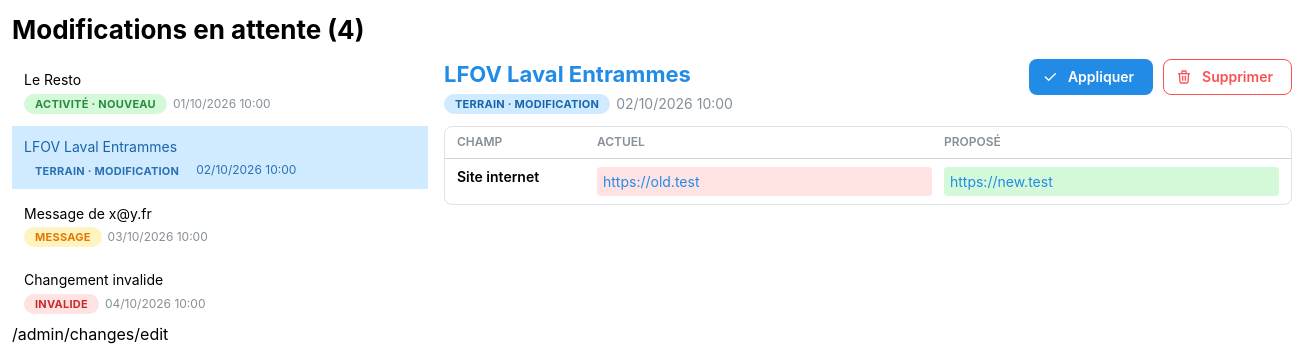
Test: AdminChanges › keeps the change and shows the error when applying fails
Step 1. Click the button "Appliquer" → (1091, 77), box x1=1029 y1=59 x2=1153 y2=95
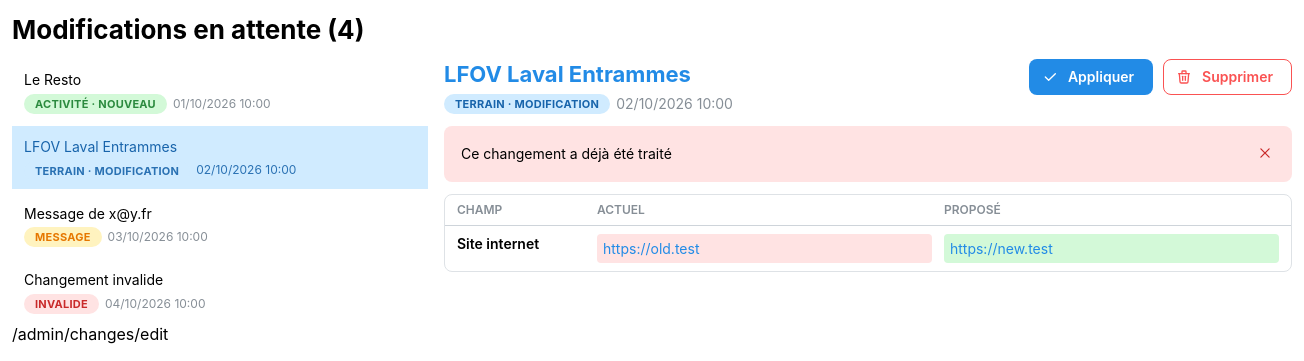
Check: the heading "Modifications en attente (4)" is shown, box x1=12 y1=14 x2=364 y2=45
Check: the text "Ce changement a déjà été traité" is shown, box x1=461 y1=145 x2=672 y2=162
